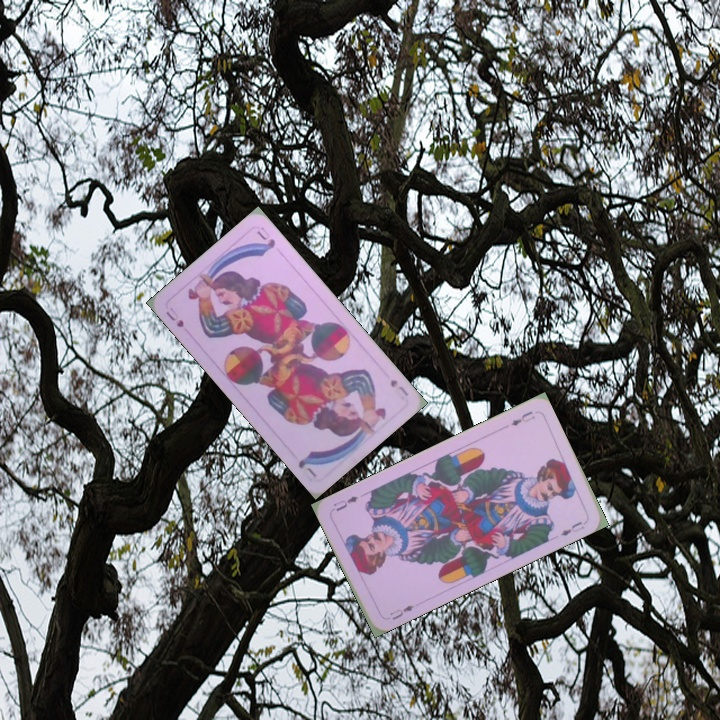EU: (386, 601, 417, 623), (507, 407, 537, 428)
SU: (162, 303, 187, 330), (386, 375, 411, 399)
